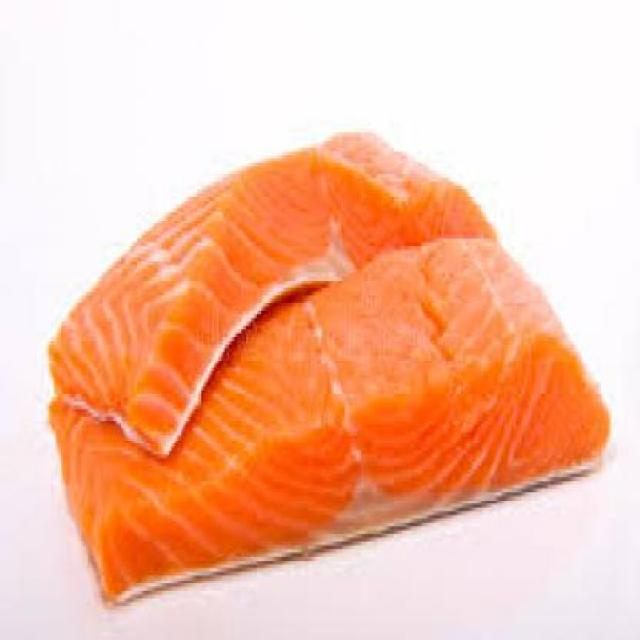salmon: (38, 215, 621, 606), (26, 110, 523, 442)
